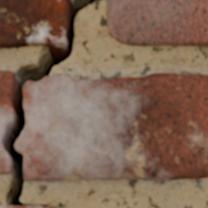brick: (107, 0, 207, 45), (0, 0, 66, 47), (0, 206, 43, 207)
broken_brick: (16, 72, 207, 181), (0, 70, 13, 137), (0, 143, 10, 174)
crack: (0, 0, 95, 206)
